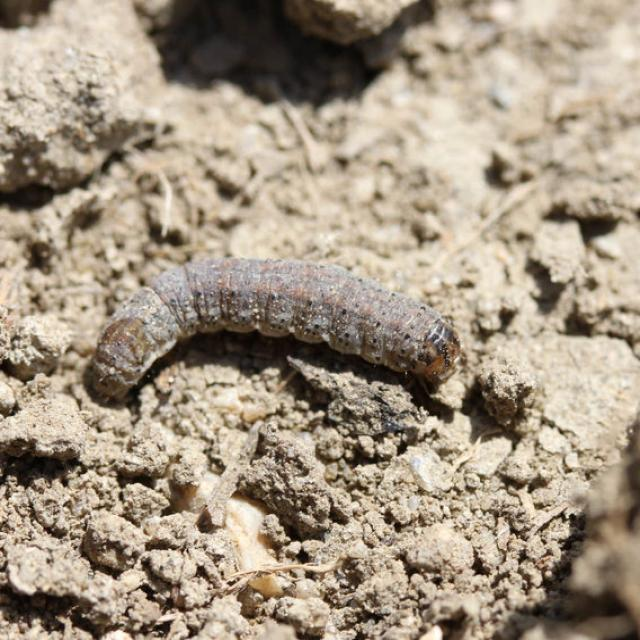Cutworm: (89, 245, 464, 405)
